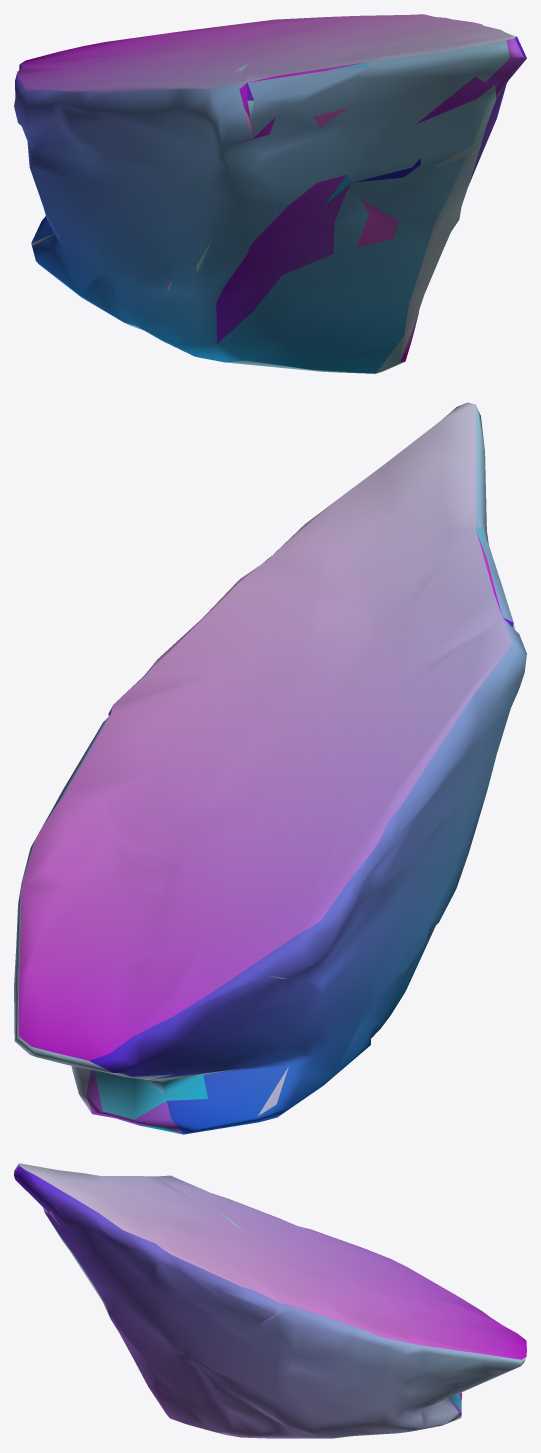
3 renders of one model, top to bottom at view 1: azimuth 30°, elevation 25°; view 2: azimuth 150°, elevation 25°; view 3: azimuth 270°, elevation 25°, orthographic. The views are drawn at different scales.
Visible parts, largest first — view 1: SM_US_TuftSedge_02_LOD0; view 2: SM_US_TuftSedge_02_LOD0; view 3: SM_US_TuftSedge_02_LOD0.
Boxes of the visible parts, bbox=[...] form: SM_US_TuftSedge_02_LOD0: bbox=[14, 14, 526, 373]; SM_US_TuftSedge_02_LOD0: bbox=[14, 402, 526, 1134]; SM_US_TuftSedge_02_LOD0: bbox=[14, 1163, 526, 1438].
Bounding box in the file's own units: 0.8906 × 1.15 × 2.09.
